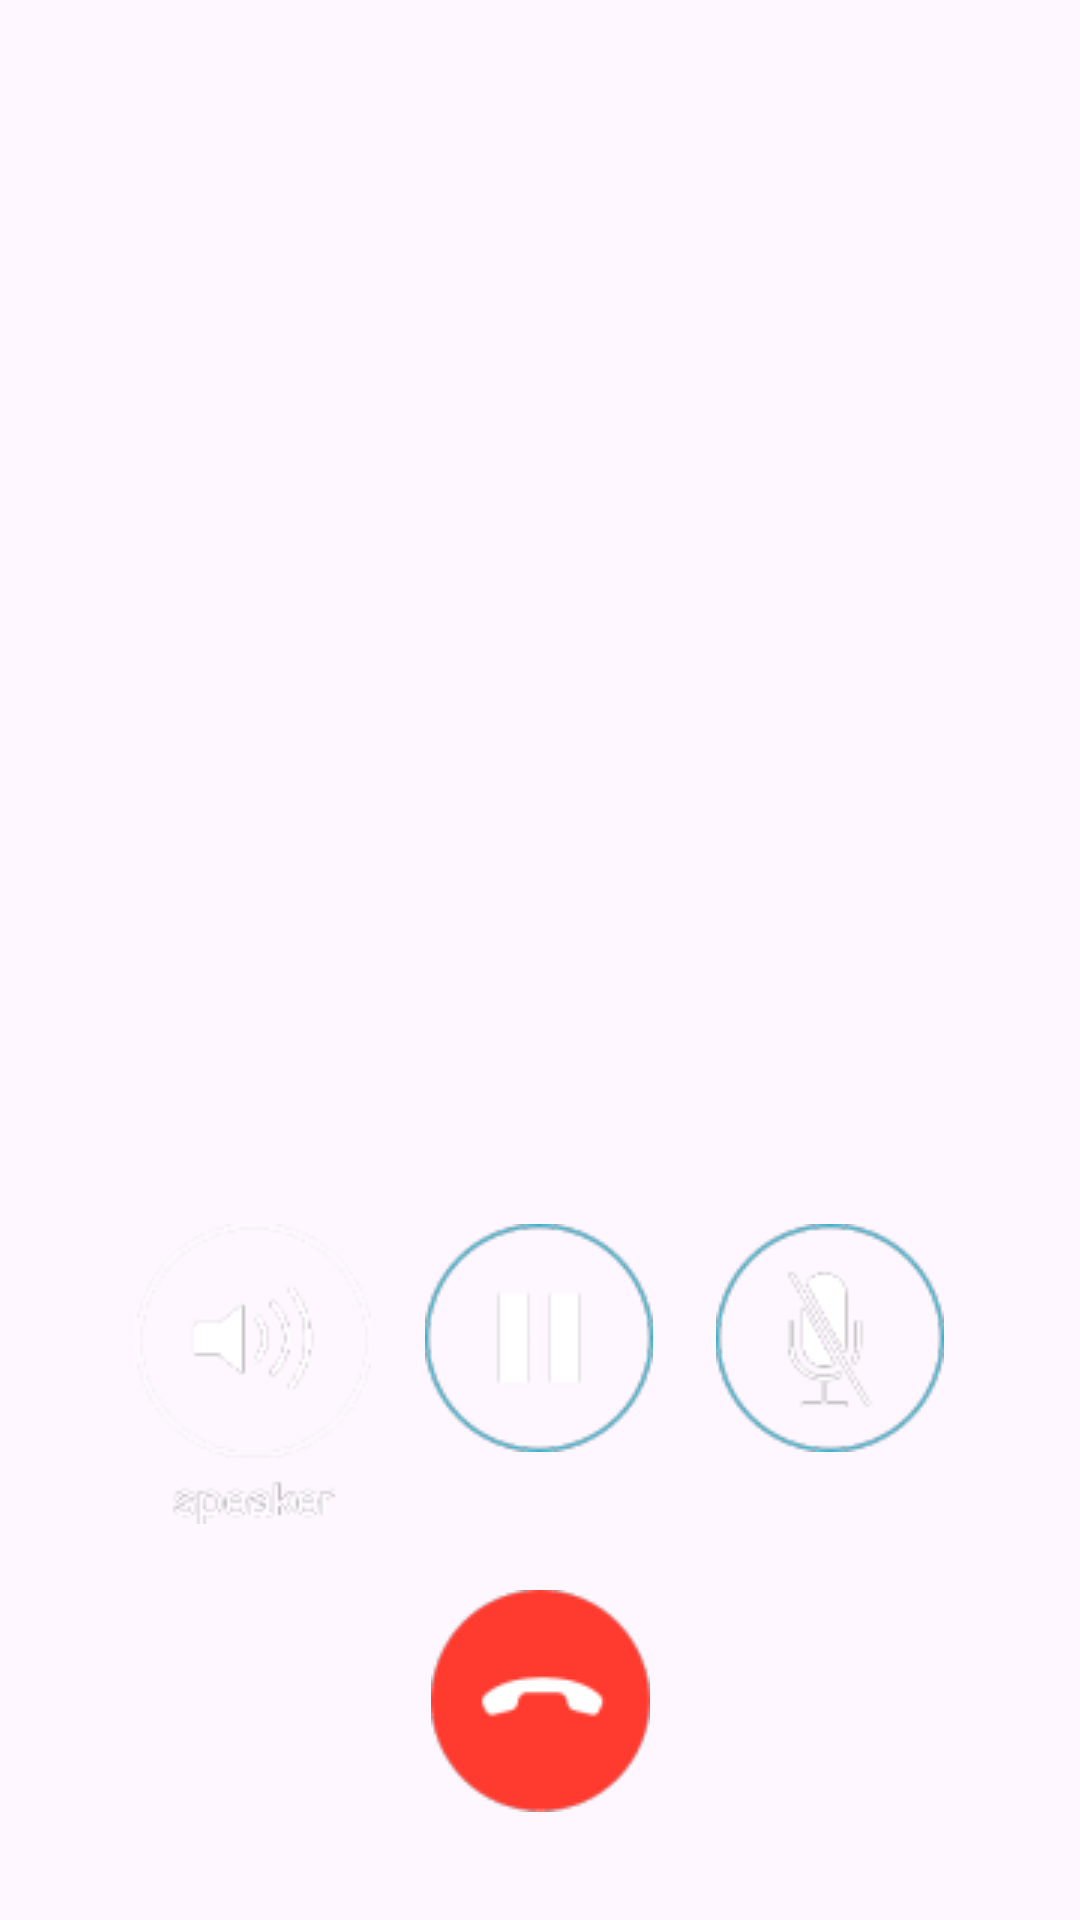

Where to tap for icons on this 1080px×1920px app screen, as point (x, y):
call end: point (540, 1701)
hold: point (539, 1338)
mute: point (830, 1338)
